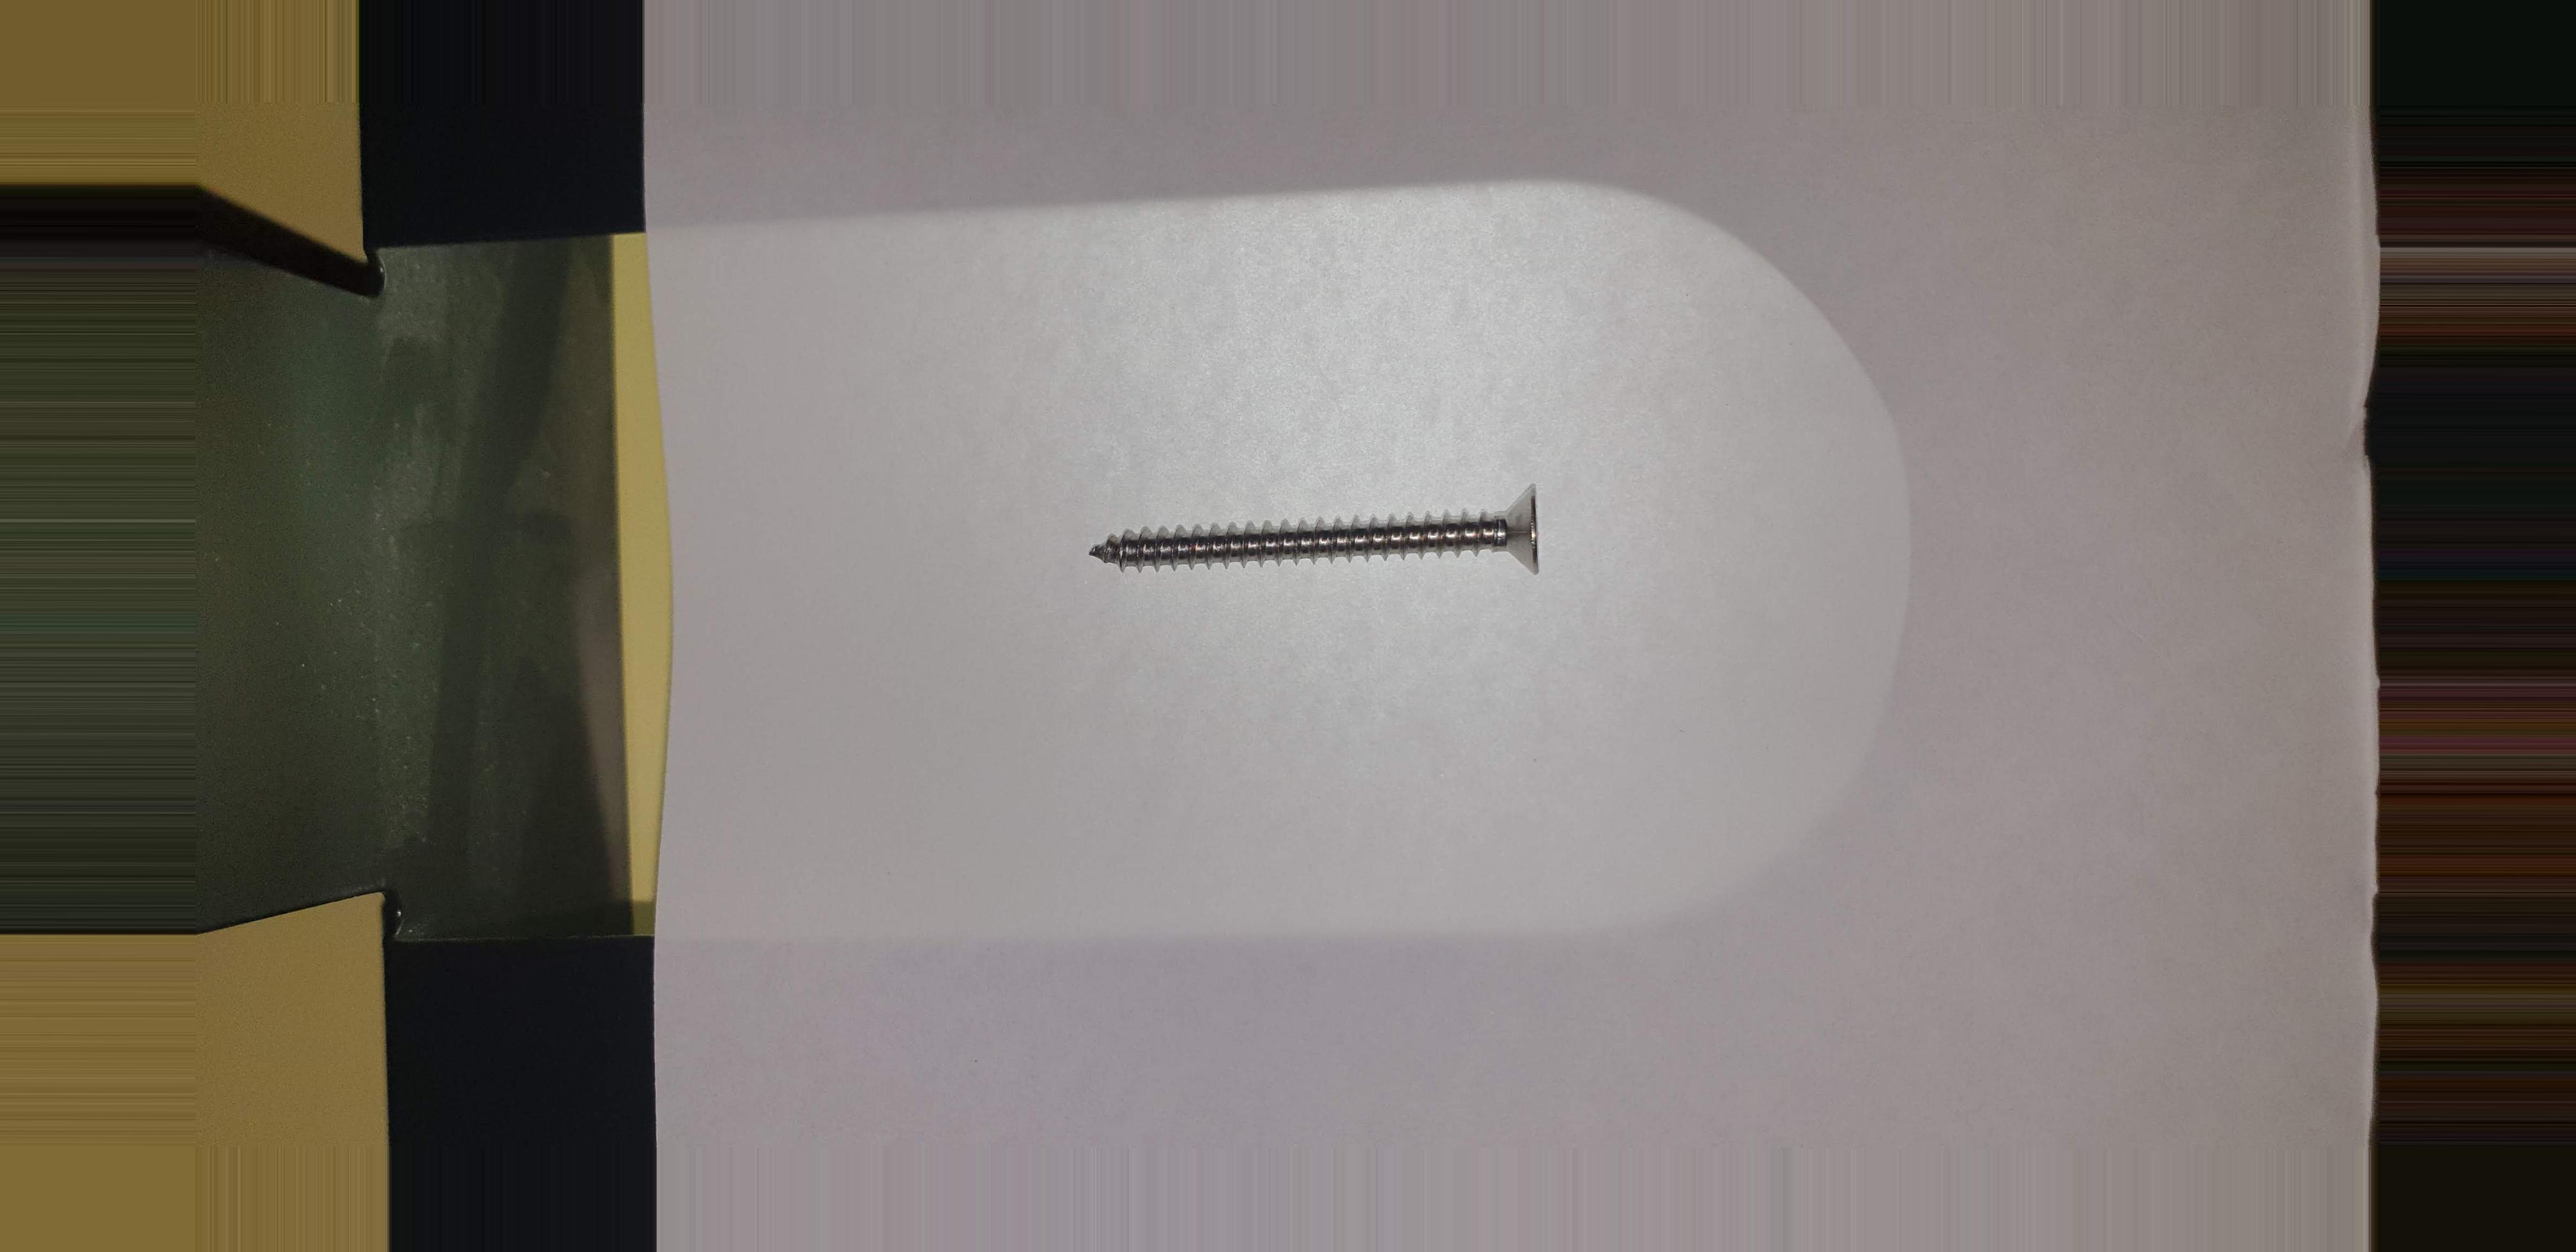fastener: (1012, 444, 1687, 631)
